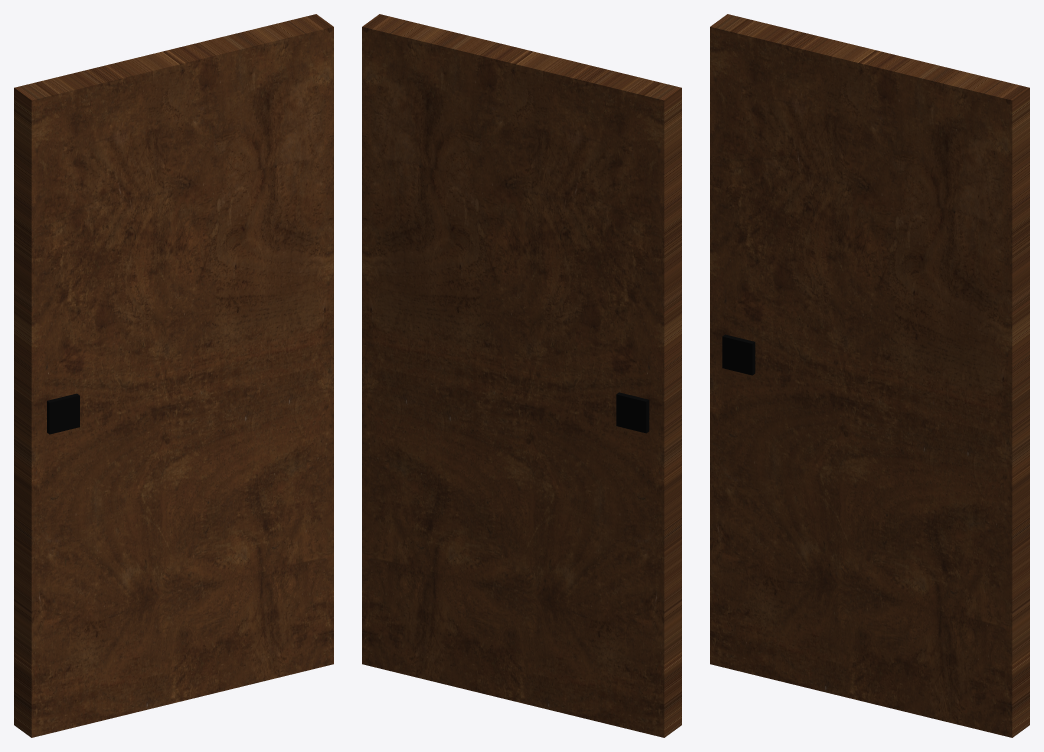
File: puerta.glb
3 views of the same model, side by side, from view 1: azimuth 30°, elevation 25°; view 2: azimuth 150°, elevation 25°; view 3: azimuth 330°, elevation 25° (orthographic).
Parts seen in each view (by area): view 1: Plano, Picaporte.001; view 2: Plano, Picaporte; view 3: Plano, Picaporte.001.
Boxes of the visible parts, left/top/right/bottom form: Plano: left=14, top=14, right=333, bottom=737; Picaporte.001: left=47, top=393, right=79, bottom=434; Plano: left=362, top=14, right=681, bottom=737; Picaporte: left=616, top=392, right=649, bottom=433; Plano: left=710, top=14, right=1029, bottom=737; Picaporte.001: left=722, top=334, right=755, bottom=375.
Size of the model in its own units: 2 by 4.03 by 0.2667.
Materials: 2 (1 with a texture image).
